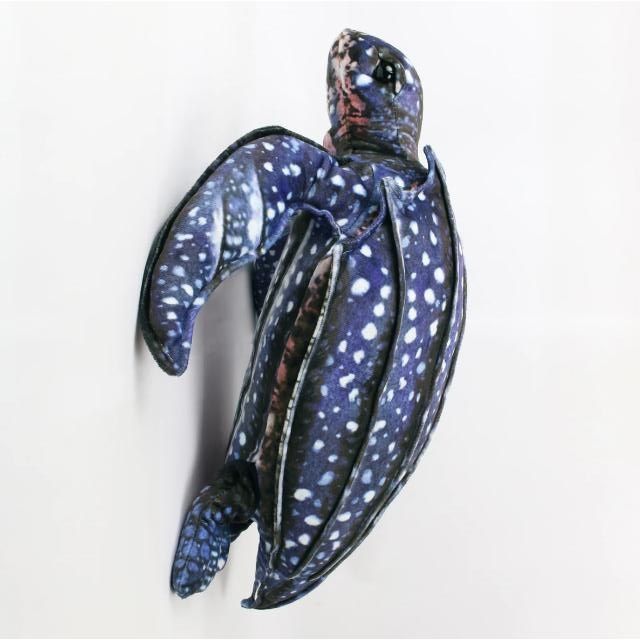turtle: (136, 27, 468, 611)
